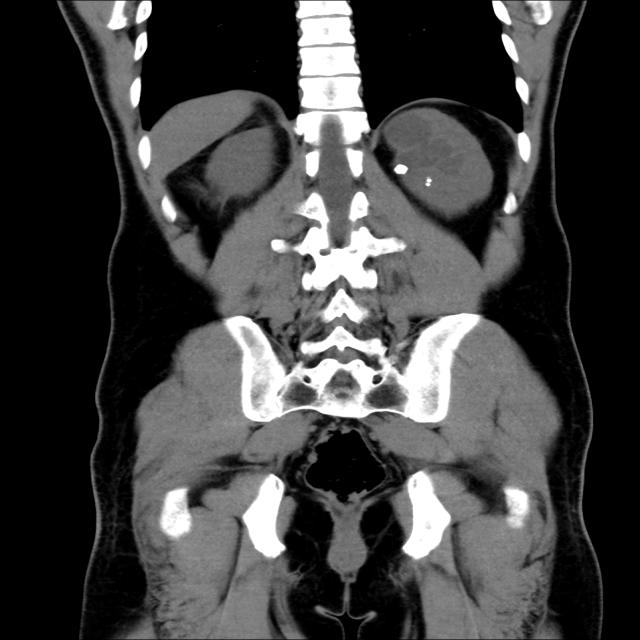kidneystone: (394, 164, 408, 174), (425, 178, 433, 186)
